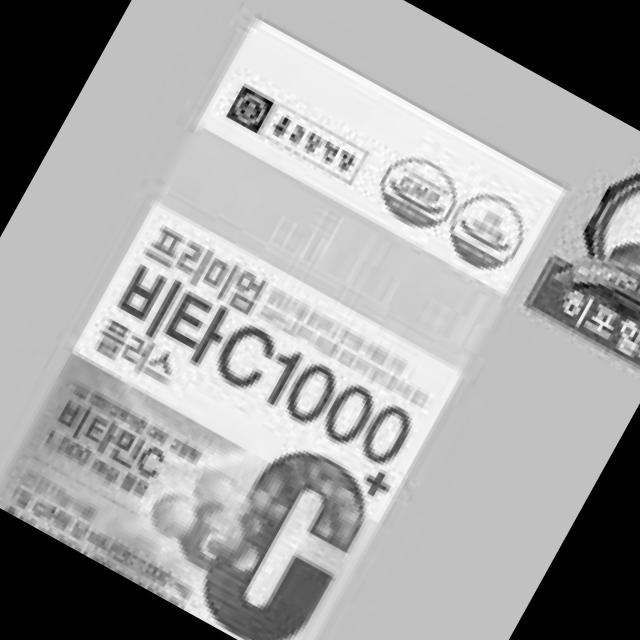GMP: (368, 143, 467, 240)
HEALTHY: (436, 178, 540, 284)
